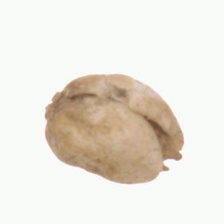L1: (142, 116, 185, 181), (42, 81, 73, 133)
L2: (45, 74, 184, 185)
